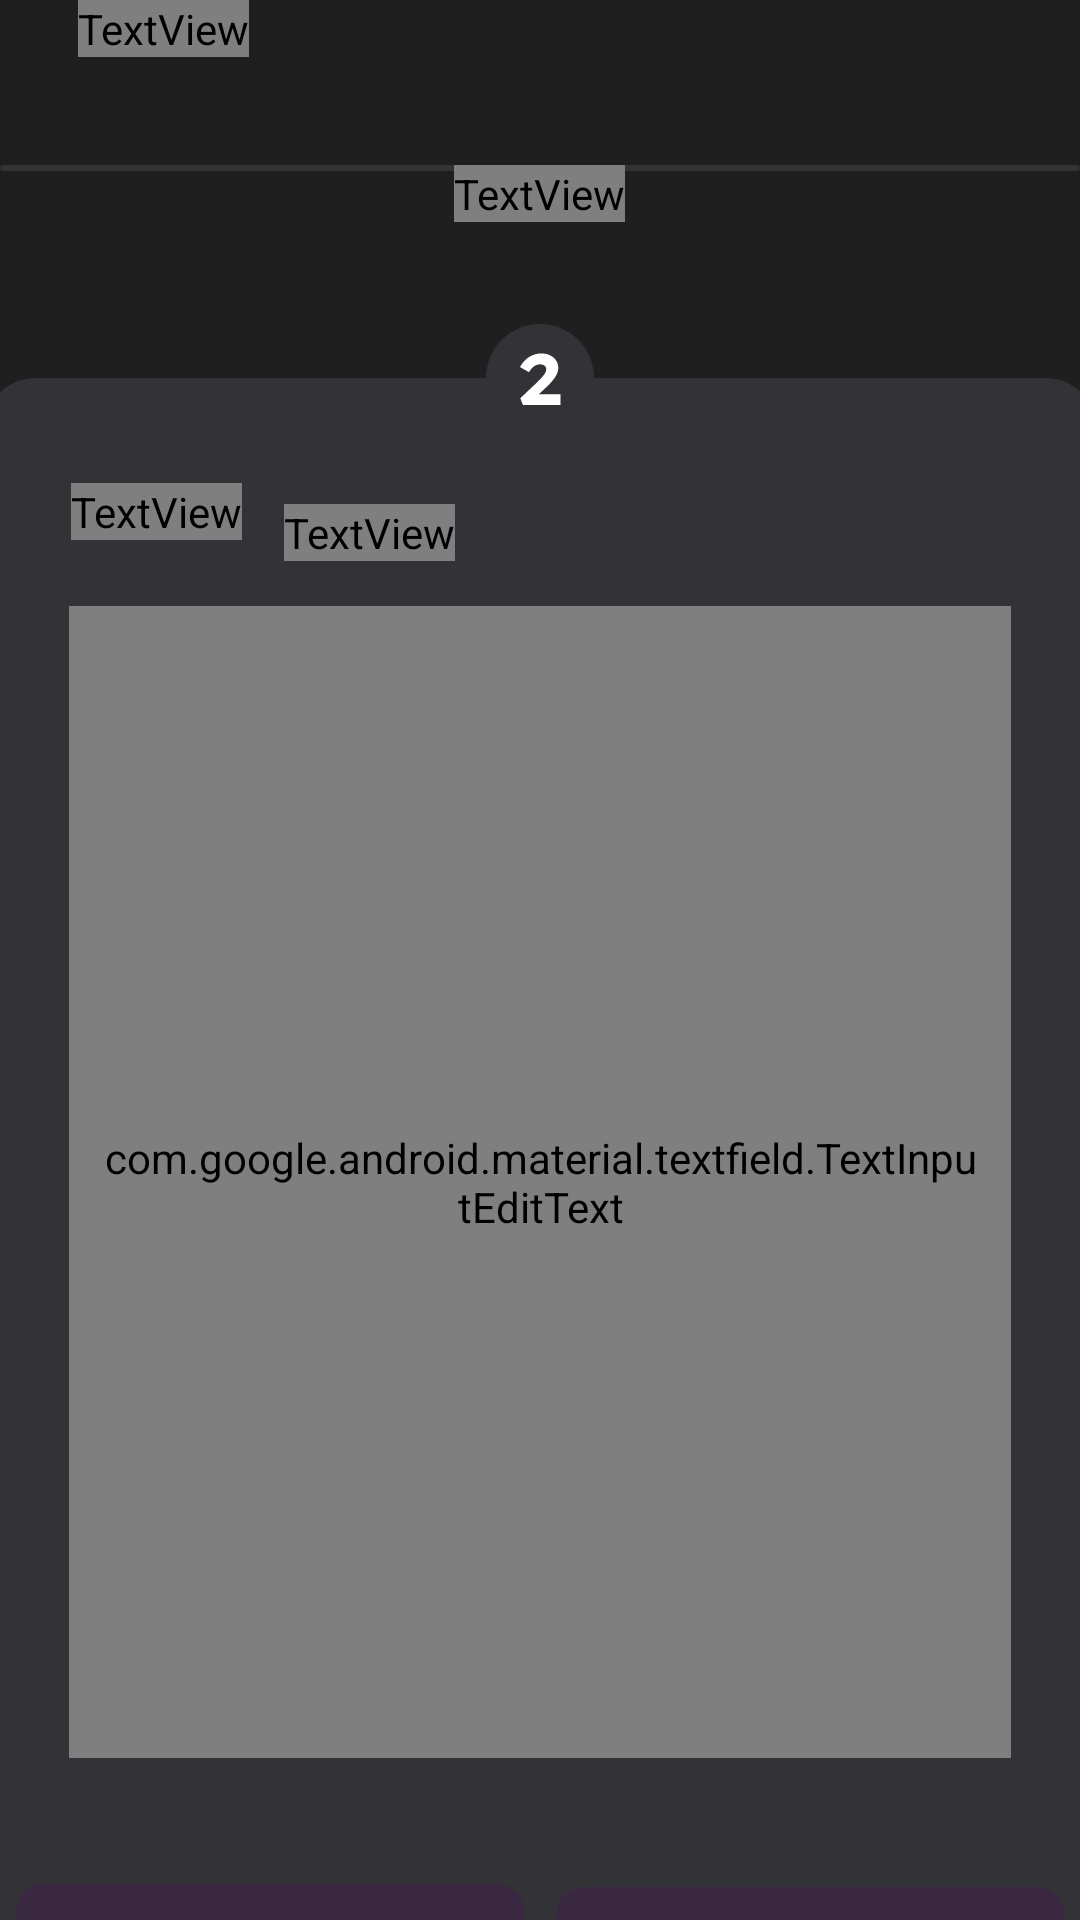

Screen size 1080x1920. Icon name, then its center in pixels as (x,y):
pagenumberimage: (540,370)
